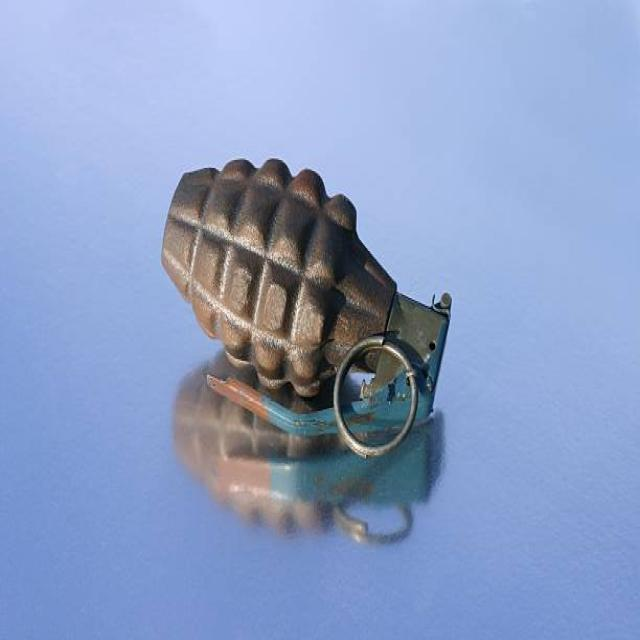grenade: (159, 148, 459, 468)
